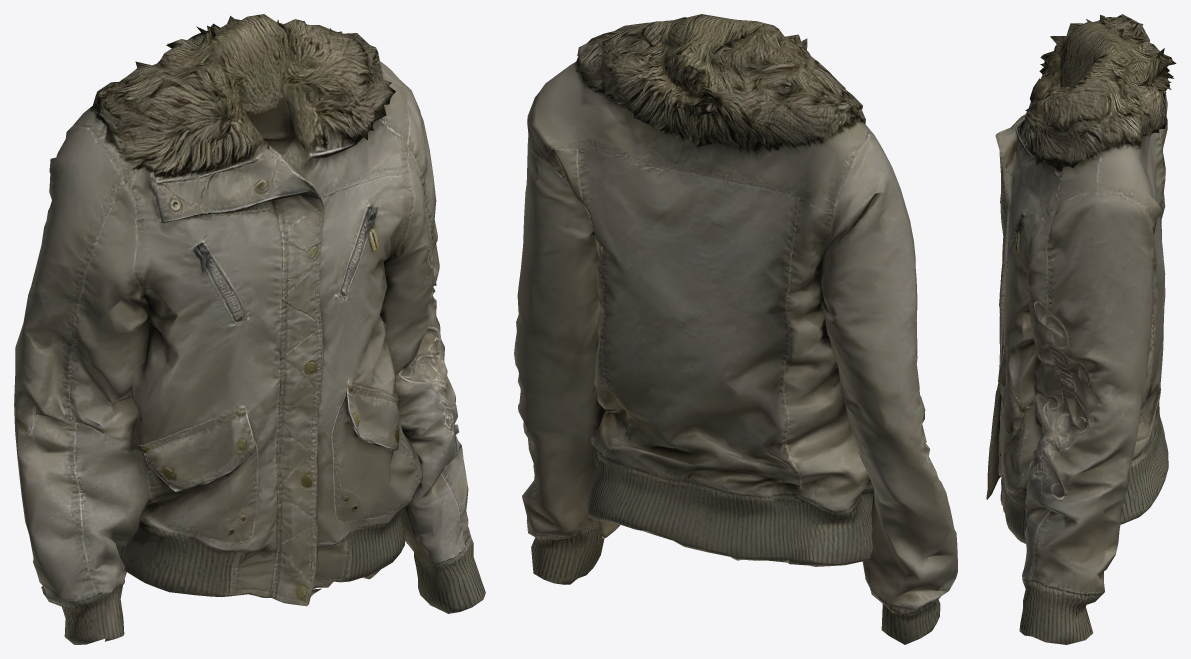
3 renders of one model, left to right at view 1: azimuth 30°, elevation 25°; view 2: azimuth 150°, elevation 25°; view 3: azimuth 270°, elevation 25°, orthographic. The views are drawn at different scales.
Visible parts, largest first — view 1: tripo_node_35c84db3-6b58-40a1-8b4e-9897cbf26bcf; view 2: tripo_node_35c84db3-6b58-40a1-8b4e-9897cbf26bcf; view 3: tripo_node_35c84db3-6b58-40a1-8b4e-9897cbf26bcf.
Boxes of the visible parts, x1,y1,x2,y2 form: tripo_node_35c84db3-6b58-40a1-8b4e-9897cbf26bcf: [14, 14, 485, 644]; tripo_node_35c84db3-6b58-40a1-8b4e-9897cbf26bcf: [514, 14, 957, 644]; tripo_node_35c84db3-6b58-40a1-8b4e-9897cbf26bcf: [986, 14, 1176, 644].
Size of the model in its own units: 0.5847 by 0.7979 by 0.2565.
1 material, 1 textured.
